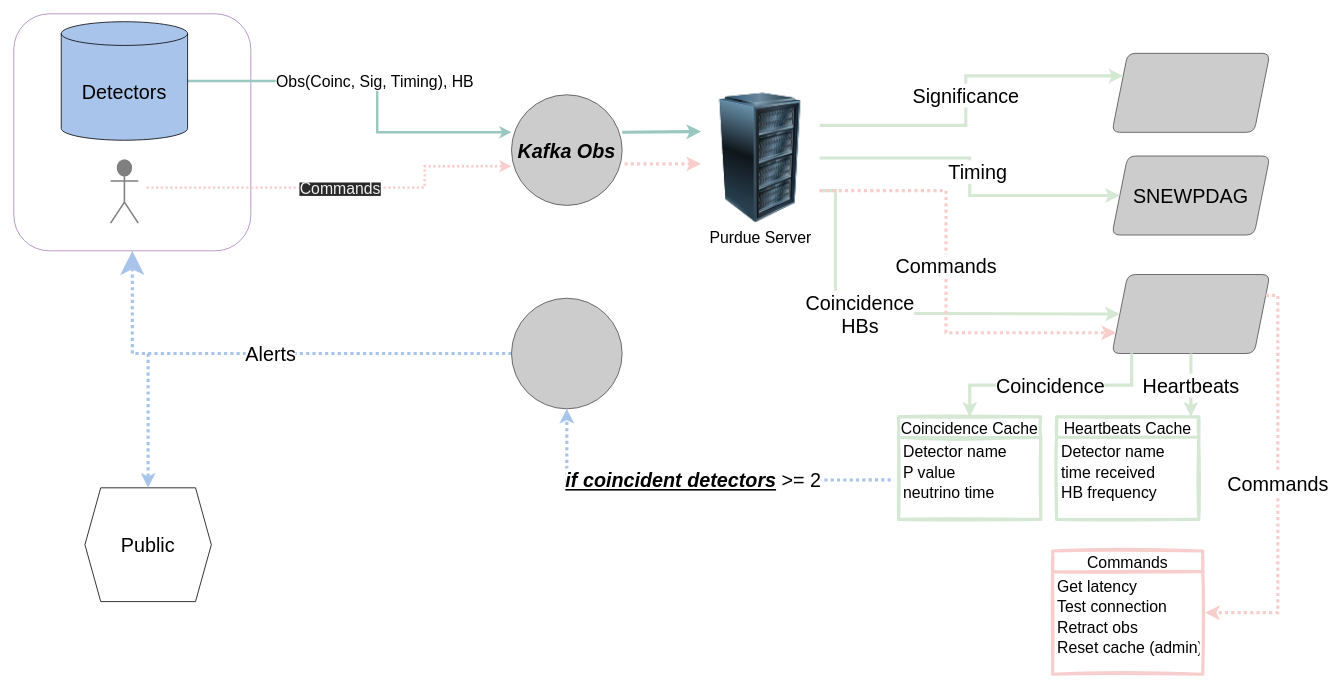
Some shapes in this 1342 by 690 pixel diagram are drawn without their labels. Each missing label, with the centre of its shape:
"CS" goes at (1190,314).
"Kafka Alerts" goes at (566,353).
"SNAP" goes at (1190,92).
"User" goes at (124,191).
